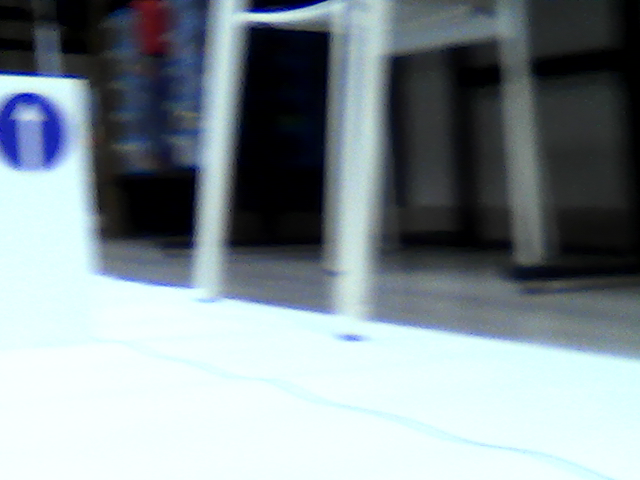forw: (2, 95, 65, 173)
